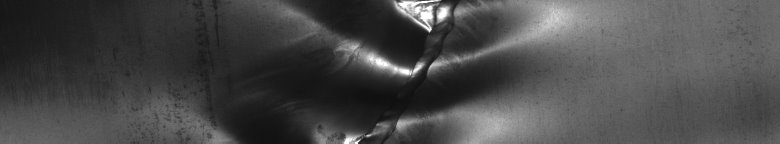ke: (292, 4, 511, 136)
